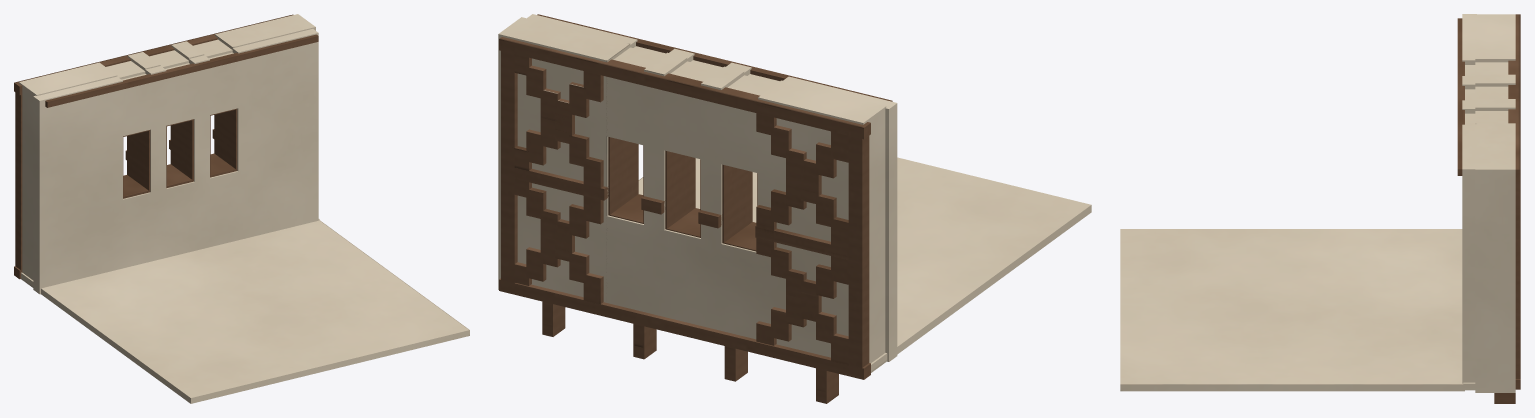
File: med_window_c_jetty.glb
3 views of the same model, side by side, from view 1: azimuth 30°, elevation 25°; view 2: azimuth 150°, elevation 25°; view 3: azimuth 270°, elevation 25° (orthographic). The views are drawn at different scales.
Visible parts, largest first — view 1: med_window_c_jetty; view 2: med_window_c_jetty; view 3: med_window_c_jetty.
Boxes of the visible parts, <box> form: med_window_c_jetty: <box>14,14,469,403</box>; med_window_c_jetty: <box>498,14,1091,403</box>; med_window_c_jetty: <box>1120,14,1520,403</box>.
Bounding box in the file's own units: 4.04 × 3.04 × 4.36.
Materials: 1 (1 with a texture image).
